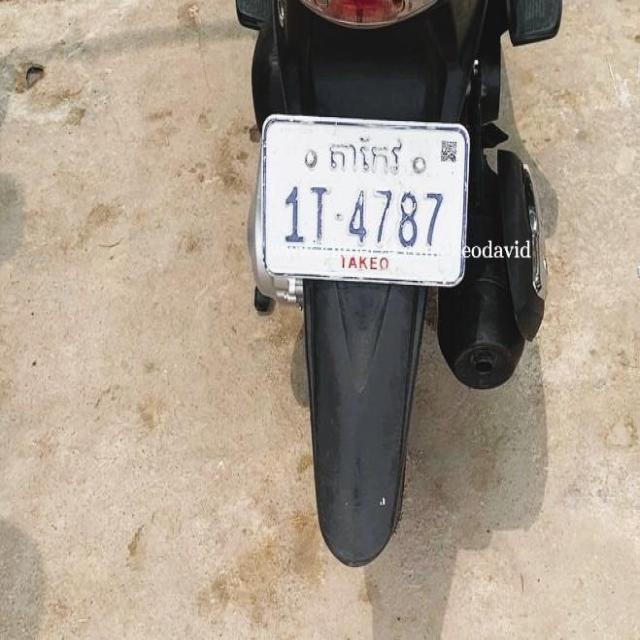Takeo: (323, 133, 406, 186)
